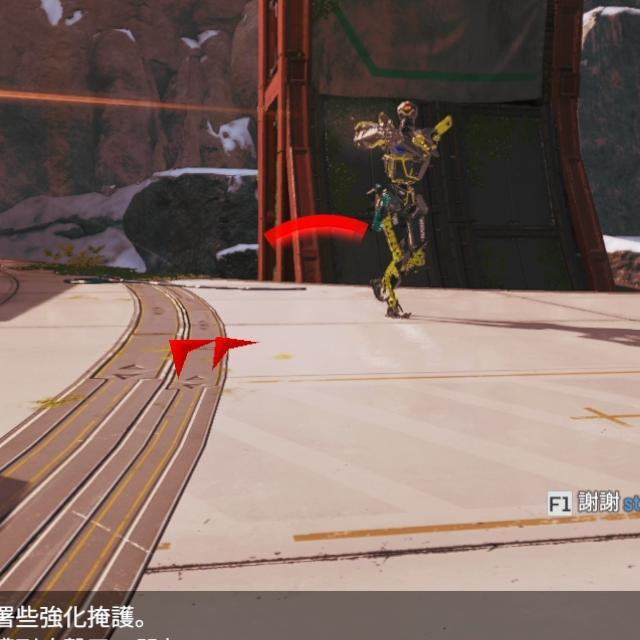avatar: (352, 97, 456, 321)
